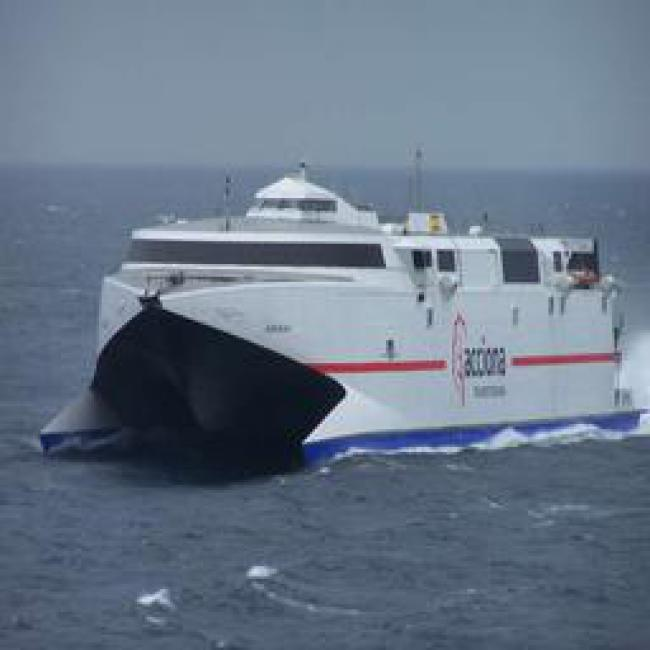Ship: (58, 203, 647, 467)
